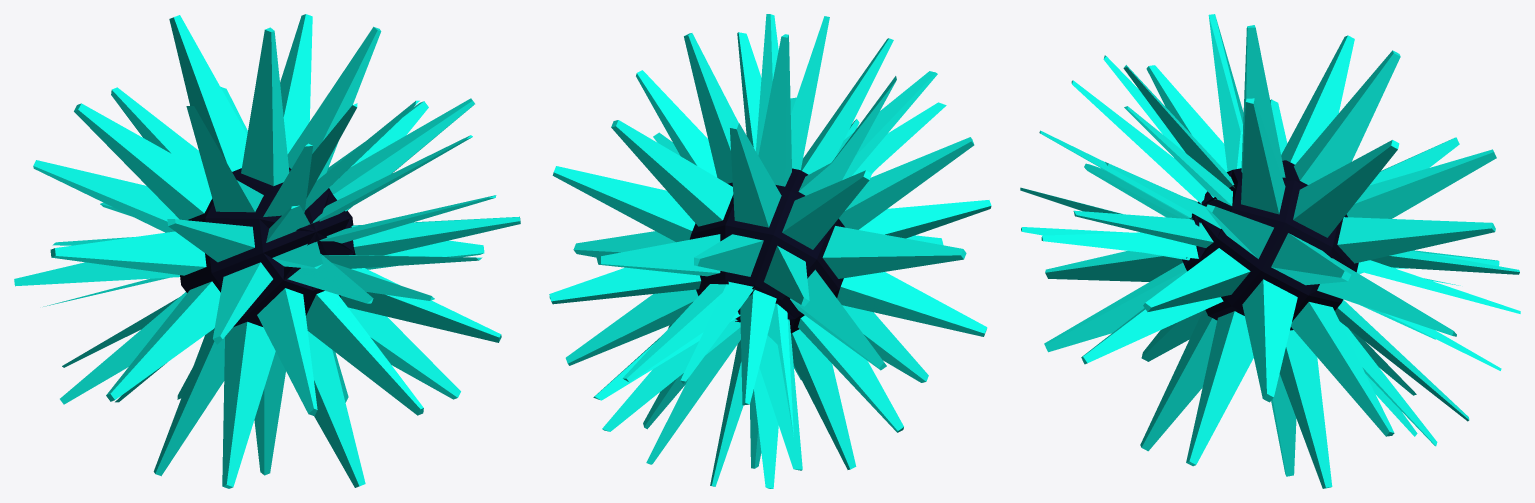
The model's file is Urchin.obj.
3 renders of one model, left to right at view 1: azimuth 30°, elevation 25°; view 2: azimuth 150°, elevation 25°; view 3: azimuth 270°, elevation 25°, orthographic. The views are drawn at different scales.
Visible parts, largest first — view 1: Sphere001; view 2: Sphere001; view 3: Sphere001.
Boxes of the visible parts, <box> form: Sphere001: <box>14,14,520,488</box>; Sphere001: <box>549,14,991,488</box>; Sphere001: <box>1020,14,1520,488</box>.
Size of the model in its own units: 972 by 1000 by 1026.
